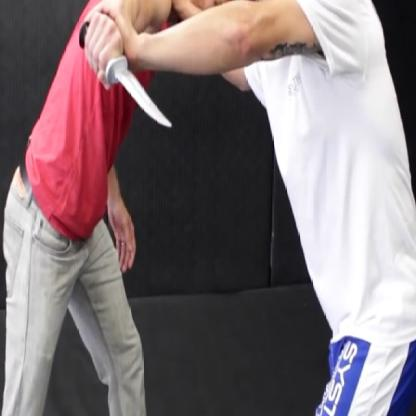knife: (72, 12, 180, 138)
